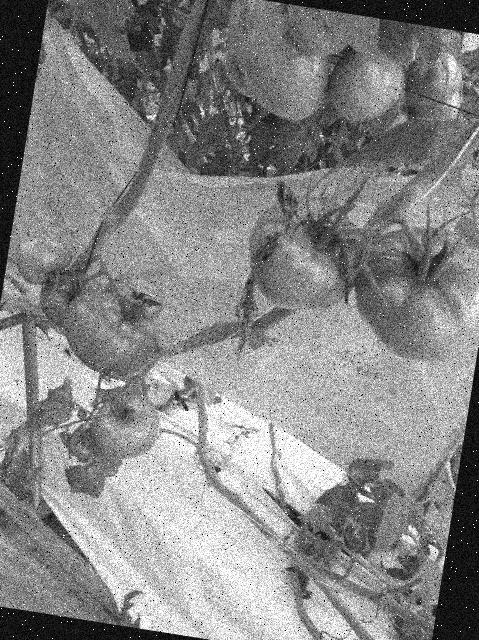b_fully_ripened: (34, 265, 105, 334)
b_green: (346, 216, 479, 369), (239, 187, 375, 320), (215, 0, 340, 125), (323, 37, 409, 128), (281, 4, 354, 61), (219, 39, 263, 98), (369, 93, 414, 141)
b_half_ripened: (55, 284, 167, 385), (87, 387, 164, 464), (394, 46, 467, 119), (10, 227, 76, 290), (101, 268, 168, 325), (409, 84, 462, 124), (65, 419, 109, 466)
